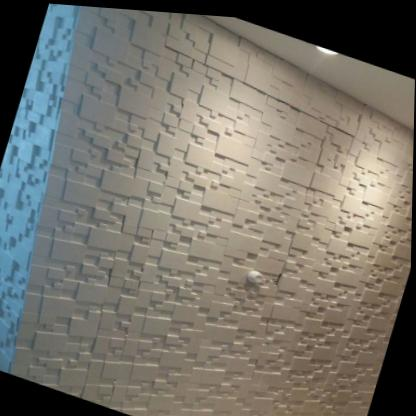Futech tiles: (67, 7, 414, 415)
